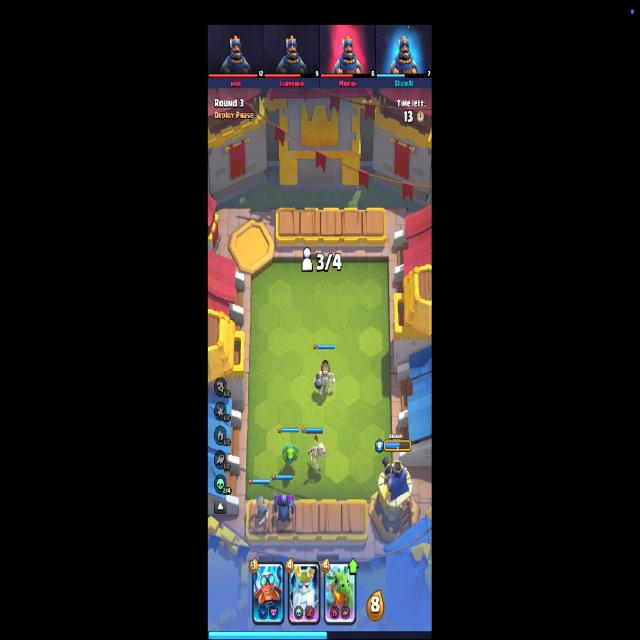baby_dragon: (282, 441, 300, 472)
card_baby_drag: (324, 561, 356, 626)
card_electro_giant: (252, 560, 285, 626)
card_royal_ghost: (288, 560, 320, 624)
giant_skeleton: (314, 359, 335, 396)
knight: (249, 495, 271, 527)
pekka: (272, 492, 295, 527)
skeleton_dragon: (306, 433, 326, 477)
